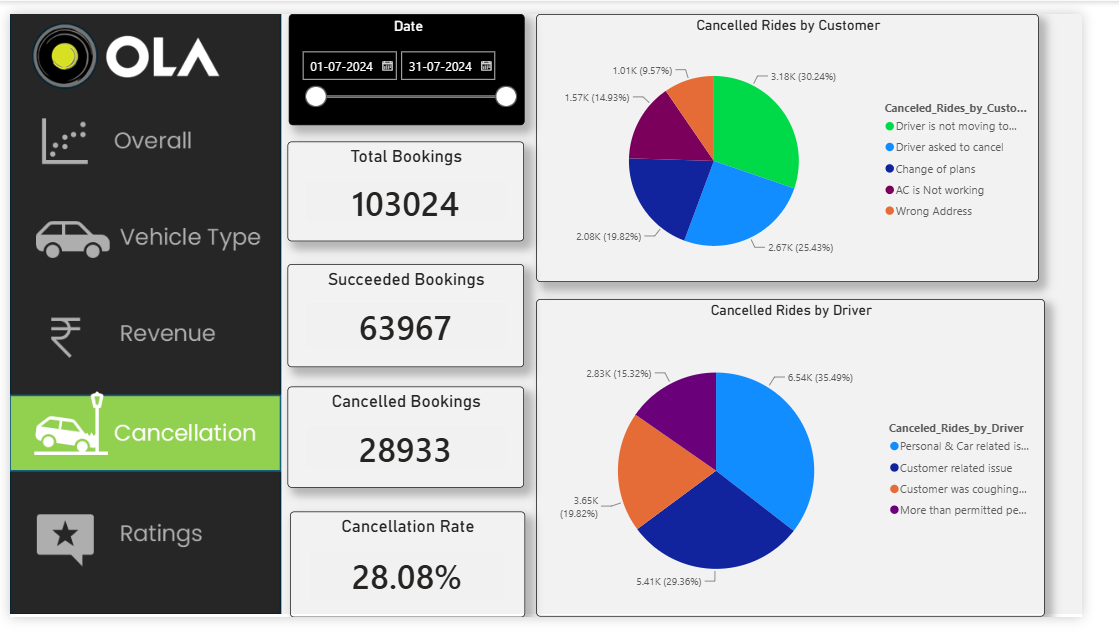

What the dashboard file says about the page in this screenshot:
{"tool":"powerbi","page":{"name":"Cancellations","canvas":[1280,720],"ordinal":3},"visuals":[{"type":"actionButton","box":[0,223.8,323.8,96.2],"z":0},{"type":"actionButton","box":[0,578.8,323.8,95],"z":1000},{"type":"actionButton","box":[0,340,323.8,83.8],"z":2000},{"type":"actionButton","box":[0,103.8,323.8,100],"z":3000},{"type":"pieChart","title":"Cancelled Rides by Customer","fields":{"Category":["OLA_Bookings.Canceled_Rides_by_Customer"],"Y":["CountNonNull(OLA_Bookings.Canceled_Rides_by_Customer)"]},"box":[629,0,600.2,320.3],"z":4000},{"type":"pieChart","title":"Cancelled Rides by Driver","fields":{"Category":["OLA_Bookings.Canceled_Rides_by_Driver"],"Y":["CountNonNull(OLA_Bookings.Canceled_Rides_by_Driver)"]},"box":[629,340.5,607.4,379.4],"z":5000},{"type":"slicer","title":"Date","fields":{"Values":["OLA_Bookings.Date"]},"box":[333.3,0,281.3,132.7],"z":6000},{"type":"cardVisual","title":"Total Bookings","fields":{"Data":["Count(OLA_Bookings.Booking_ID)"]},"box":[332.1,152.8,282.1,119],"z":7000},{"type":"cardVisual","title":"Succeeded Bookings","fields":{"Data":["Count(OLA_Bookings.Booking_ID)"]},"box":[332.1,298.3,282.1,123.4],"z":8000},{"type":"cardVisual","title":"Cancelled Bookings","fields":{"Data":["Count(OLA_Bookings.Booking_ID)"]},"box":[332.1,445.2,282.1,120.5],"z":9000},{"type":"cardVisual","title":"Cancellation Rate","fields":{"Data":["OLA_Bookings.CanceledPercentage"]},"box":[335,593.6,280.4,126.3],"z":10000}]}

Visuals, with their boxes on the page's 1280x720 design canvas (x1, y1, x2, y2). These are canvas units, not pixel positions in the 1119x641 screenshot, which may show the page scaled, cropped or inside an application window:
actionButton: box(0, 224, 324, 320)
actionButton: box(0, 579, 324, 674)
actionButton: box(0, 340, 324, 424)
actionButton: box(0, 104, 324, 204)
"Cancelled Rides by Customer" pieChart: box(629, 0, 1229, 320)
"Cancelled Rides by Driver" pieChart: box(629, 340, 1236, 720)
"Date" slicer: box(333, 0, 615, 133)
"Total Bookings" cardVisual: box(332, 153, 614, 272)
"Succeeded Bookings" cardVisual: box(332, 298, 614, 422)
"Cancelled Bookings" cardVisual: box(332, 445, 614, 566)
"Cancellation Rate" cardVisual: box(335, 594, 615, 720)
